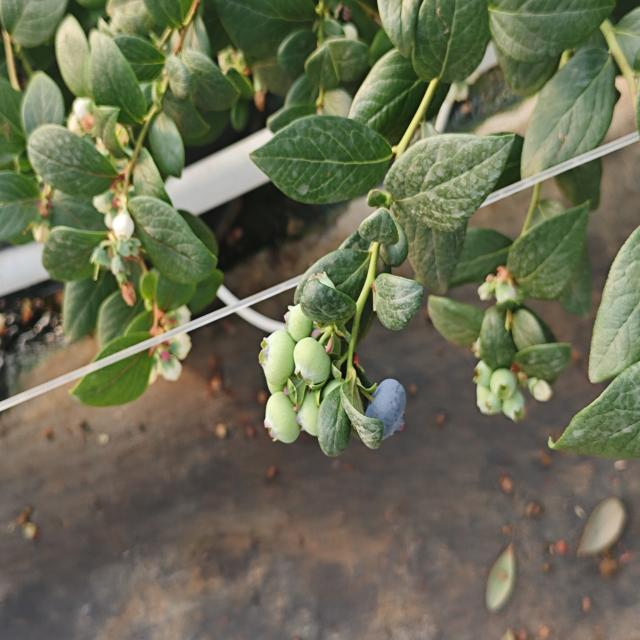ripe: (366, 374, 411, 444)
